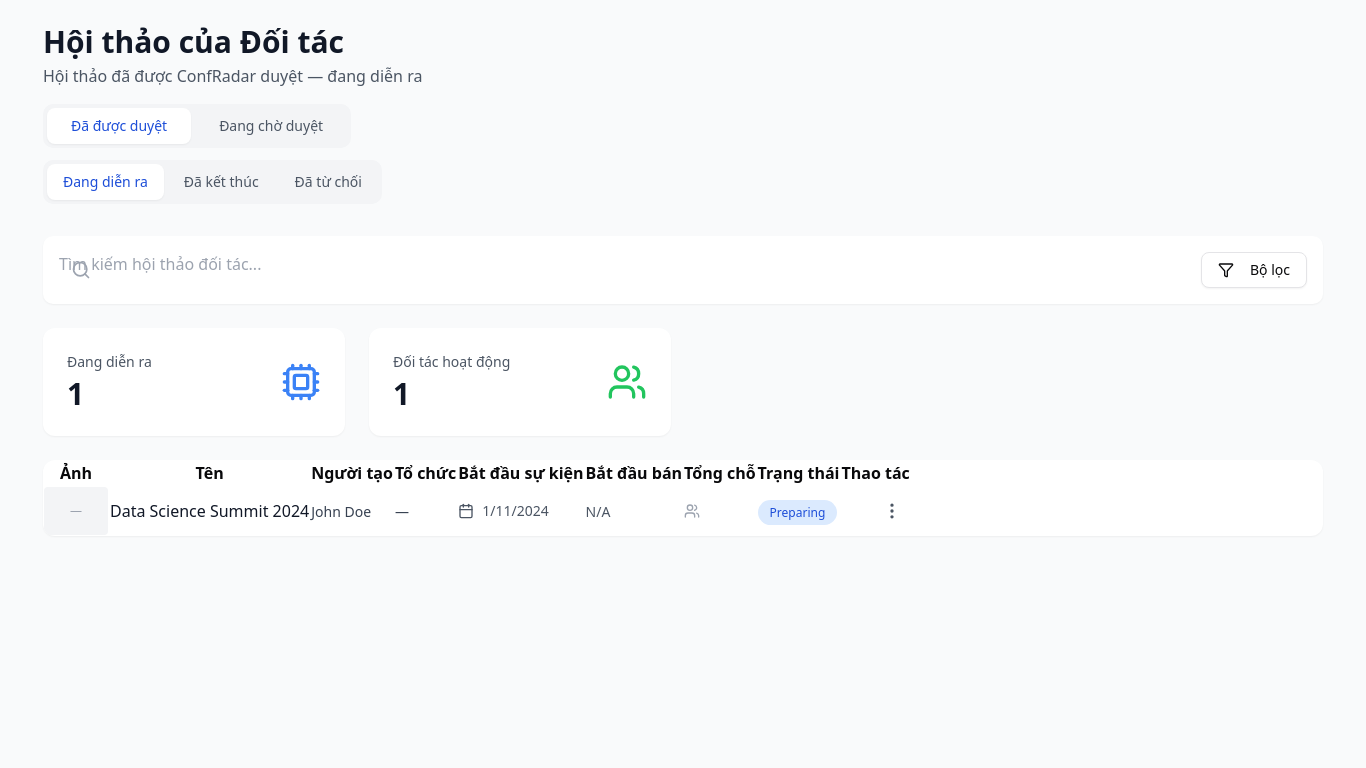
Test: ExternalConference Component › opens filter modal when filter button is clicked
Click the button "Bộ lọc" at (1254, 270), box [1201,252,1307,288]
(page scrolled)
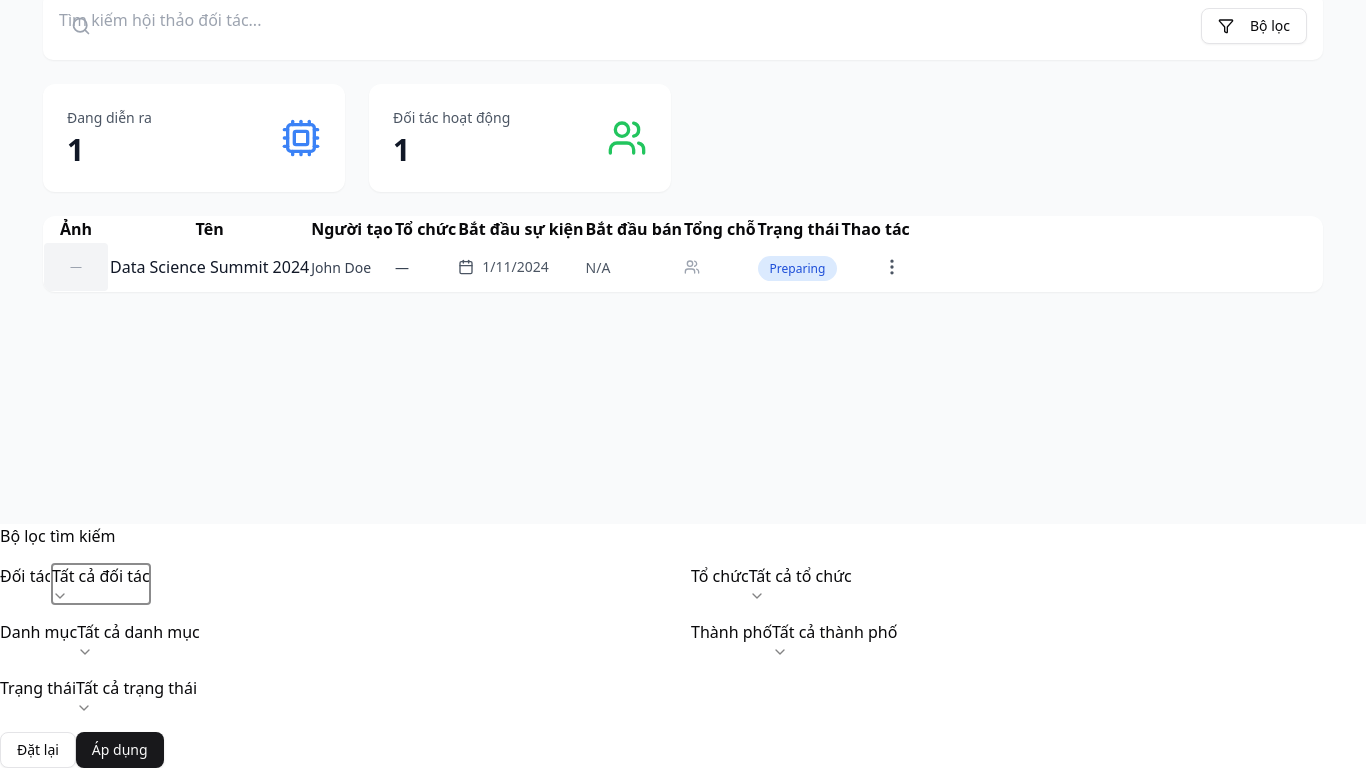
Check: the heading "Bộ lọc tìm kiếm" is shown, box [0,525,116,547]
